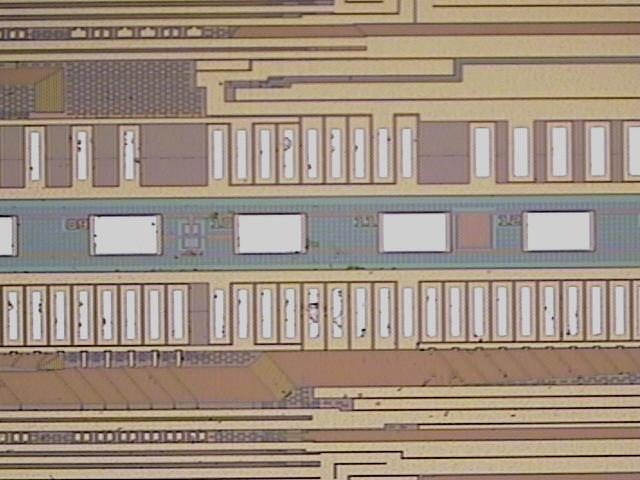PO CONTAMINATION: (6, 68, 588, 427)
